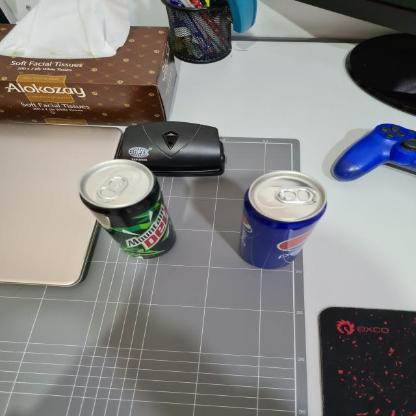Can: (71, 161, 179, 261), (236, 170, 332, 272)
